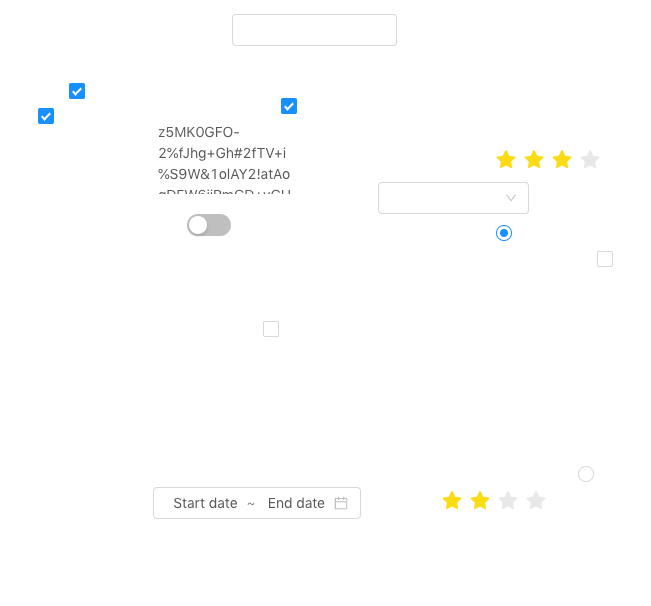Checkbox: (281, 95, 297, 116), (263, 318, 279, 339), (38, 105, 54, 126), (69, 80, 85, 101), (597, 248, 613, 269)
Input: (232, 14, 397, 46)
Radio: (496, 222, 512, 242), (578, 463, 594, 483)
RangePicker: (153, 487, 361, 519)
Rate: (496, 143, 616, 175), (442, 484, 562, 516)
Select: (378, 182, 529, 214)
Switch: (187, 213, 231, 237)
Text: (158, 121, 294, 194)
